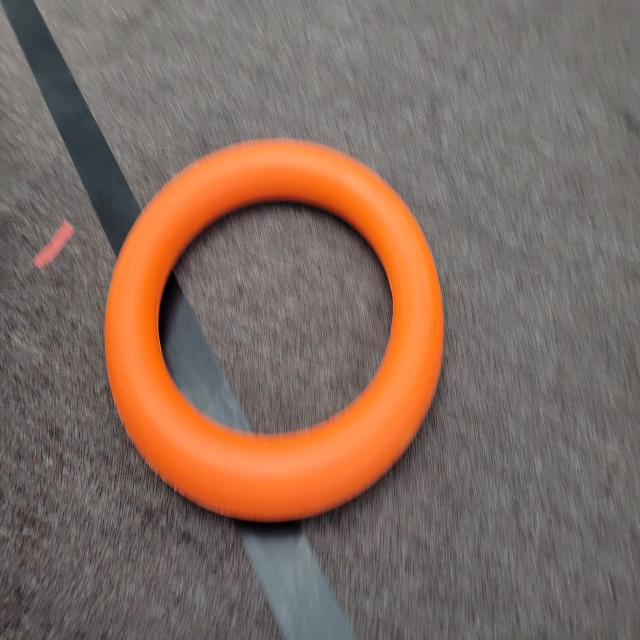note: (90, 125, 455, 550)
